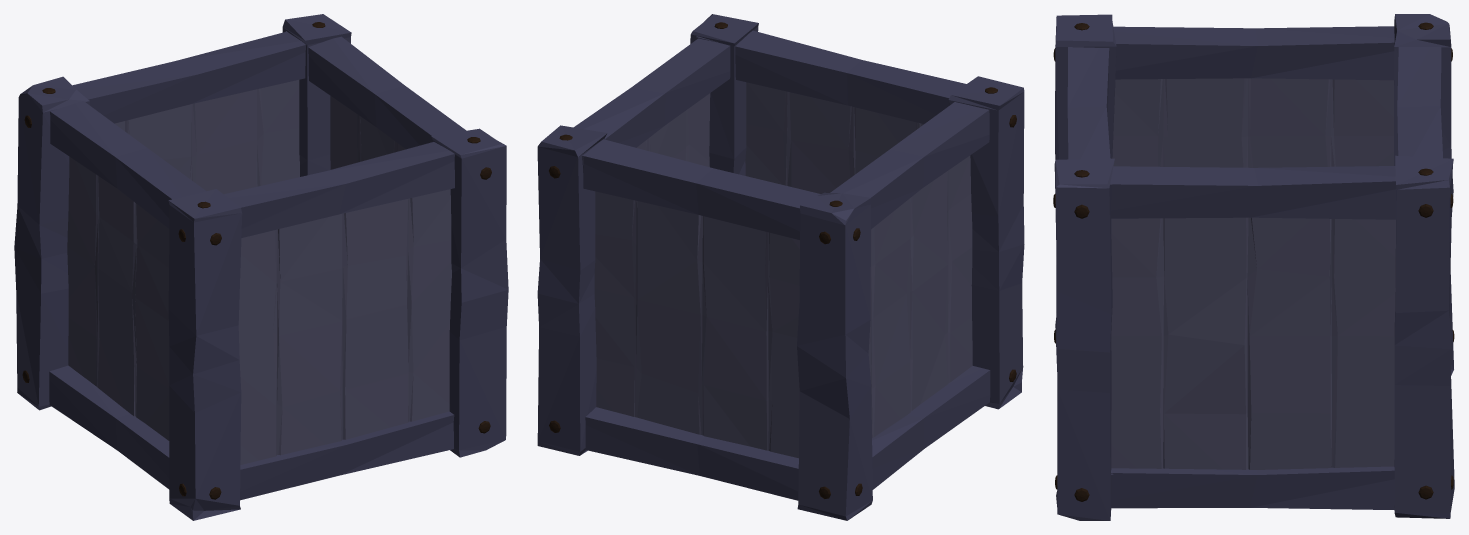
Rendered from SFFA_Box.fbx.
3 views of the same model, side by side, from view 1: azimuth 30°, elevation 25°; view 2: azimuth 150°, elevation 25°; view 3: azimuth 270°, elevation 25° (orthographic). The views are drawn at different scales.
Parts seen in each view (by area): view 1: SFFA_Box; view 2: SFFA_Box; view 3: SFFA_Box.
Boxes of the visible parts, x1,y1,x2,y2 form: SFFA_Box: (14, 14, 508, 520); SFFA_Box: (537, 14, 1024, 520); SFFA_Box: (1053, 14, 1454, 520).
Size of the model in its own units: 81.11 by 75.17 by 80.03.
